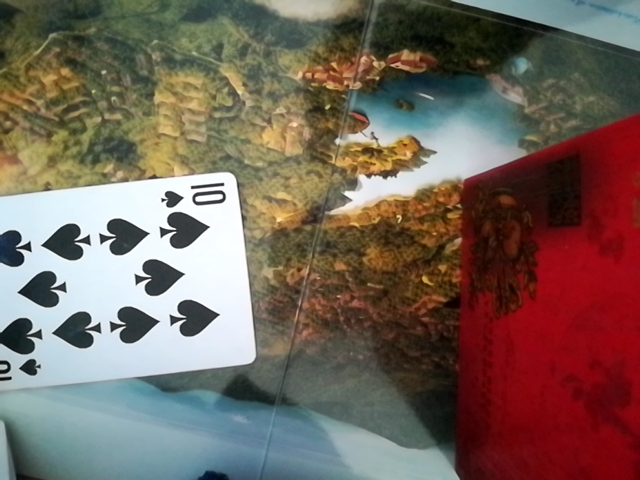ht 10: (0, 174, 254, 397)
